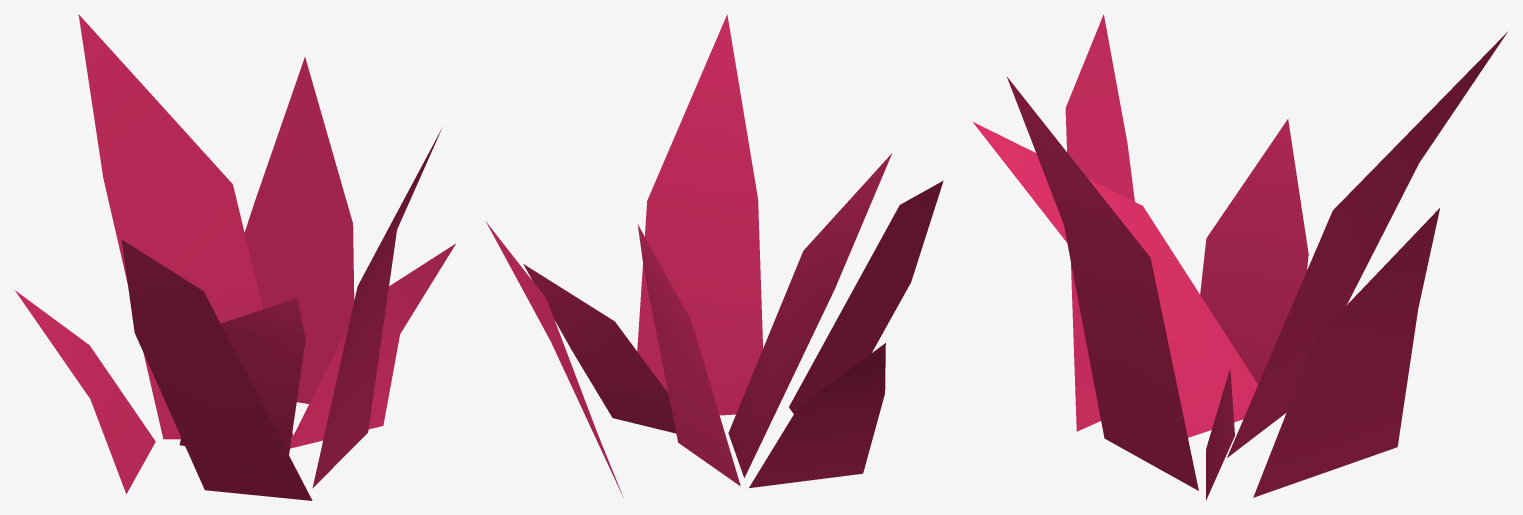
The model's file is Forest_Grass_04.fbx.
3 views of the same model, side by side, from view 1: azimuth 30°, elevation 25°; view 2: azimuth 150°, elevation 25°; view 3: azimuth 270°, elevation 25° (orthographic). The views are drawn at different scales.
Parts seen in each view (by area): view 1: Forest_Grass_04; view 2: Forest_Grass_04; view 3: Forest_Grass_04.
Part boxes in pixels (left/top/right/bottom): Forest_Grass_04: left=15, top=14, right=455, bottom=500; Forest_Grass_04: left=486, top=14, right=943, bottom=497; Forest_Grass_04: left=972, top=14, right=1507, bottom=500.
Size of the model in its own units: 13.65 by 11.75 by 13.99.
